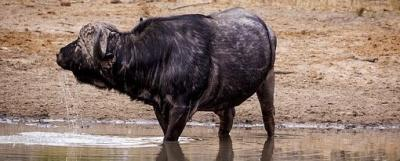buffalo: (57, 7, 276, 150)
